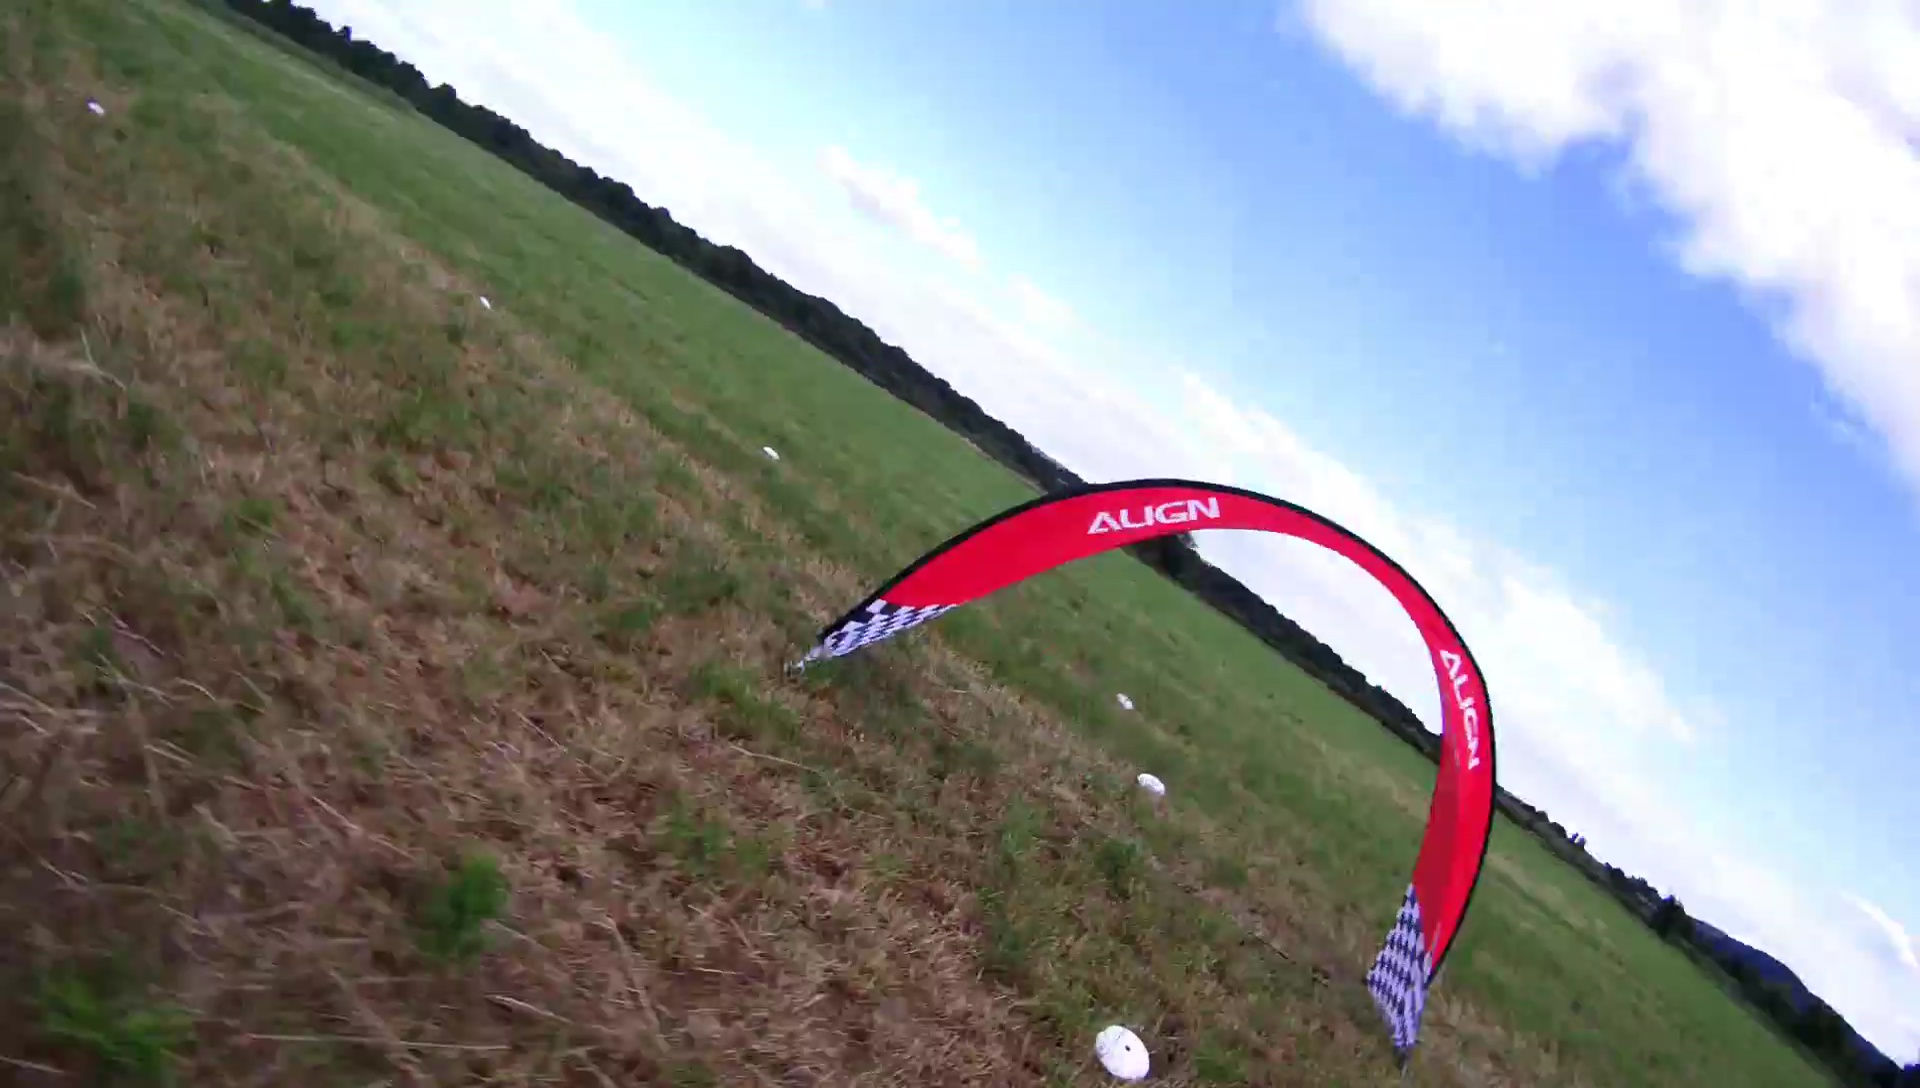gate: (781, 476, 1501, 1059)
